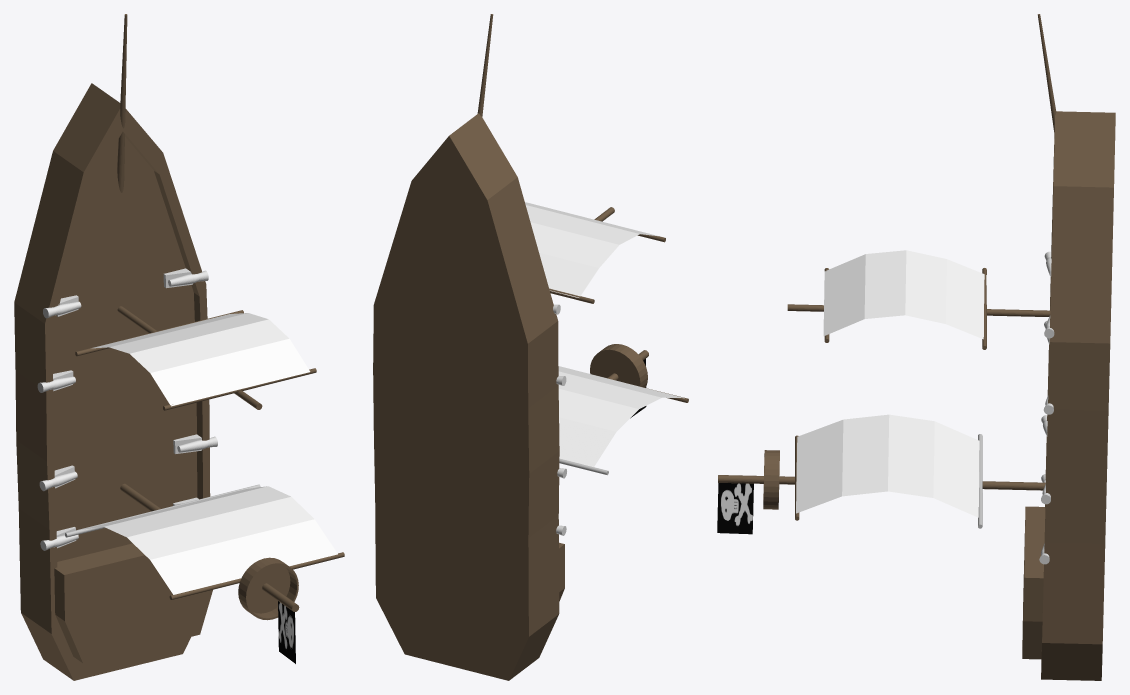
File: piratskepp6.glb
The picture shows the model from 3 angles, left to right: view 1: azimuth 30°, elevation 25°; view 2: azimuth 150°, elevation 25°; view 3: azimuth 270°, elevation 25°; orthographic projection. The views are drawn at different scales.
Parts seen in each view (by area): view 1: Plane, Plane.002, Cube.001, Plane.001, Cylinder.009, Cylinder.002, Plane.003, Cylinder, Cube.004, Cylinder.007, Cube.003, Cylinder.001 (+3 smaller); view 2: Plane, Plane.002, Plane.001, Cylinder.009; view 3: Plane, Plane.002, Plane.001, Cube.001, Plane.003, Cylinder, Cylinder.009, Cylinder.001.
Part boxes in pixels (box(x1,y1,x2,y2)): Plane: box(14, 83, 210, 680); Plane.002: box(82, 486, 337, 594); Cube.001: box(54, 543, 212, 663); Plane.001: box(91, 313, 310, 406); Cylinder.009: box(238, 557, 298, 620); Cylinder.002: box(117, 14, 127, 192); Plane.003: box(278, 601, 295, 663); Cylinder: box(120, 483, 299, 611); Cube.004: box(163, 268, 208, 288); Cylinder.007: box(169, 552, 344, 599); Cube.003: box(173, 434, 217, 453); Cylinder.001: box(117, 306, 262, 409); Plane: box(373, 113, 559, 680); Plane.002: box(558, 366, 684, 467); Plane.001: box(525, 202, 658, 297); Cylinder.009: box(590, 344, 647, 387); Plane: box(1041, 111, 1115, 680); Plane.002: box(796, 414, 979, 517); Plane.001: box(823, 250, 986, 339); Cube.001: box(1022, 506, 1045, 659); Plane.003: box(717, 483, 753, 534); Cylinder: box(718, 475, 1045, 490); Cylinder.009: box(763, 450, 779, 509); Cylinder.001: box(787, 304, 1050, 316).
Size of the model in its own units: 7.35 by 23.83 by 13.46.
Materials: 14 (14 with a texture image).
